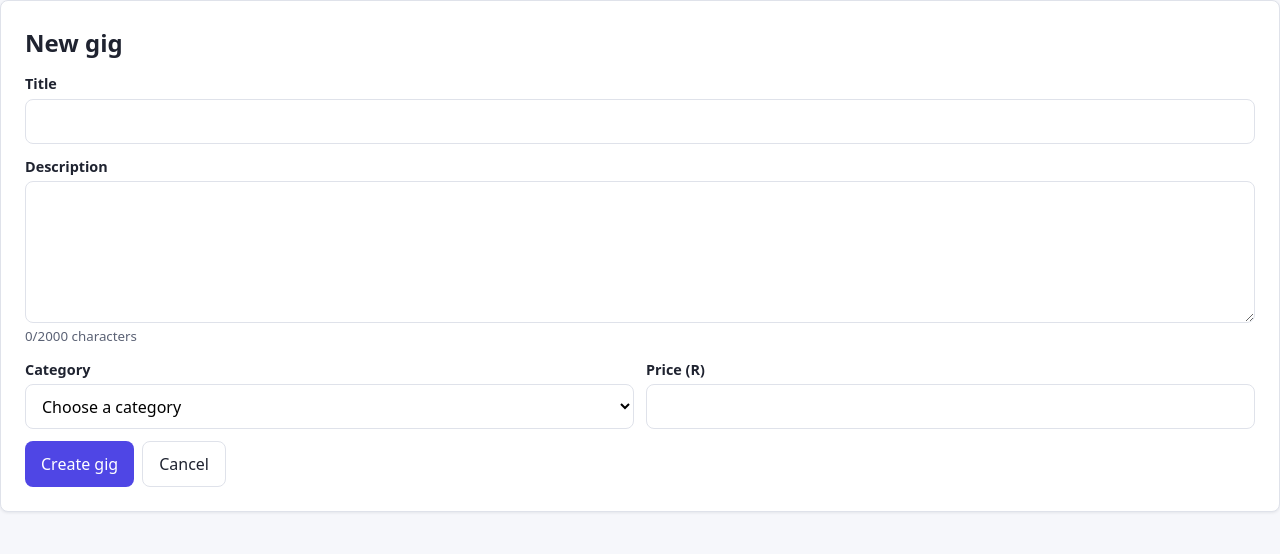
Test: GigForm component › rejects a price below R1
Type "Logo Design" into the field labelled "Title" at (640, 121), box [25, 99, 1255, 144]
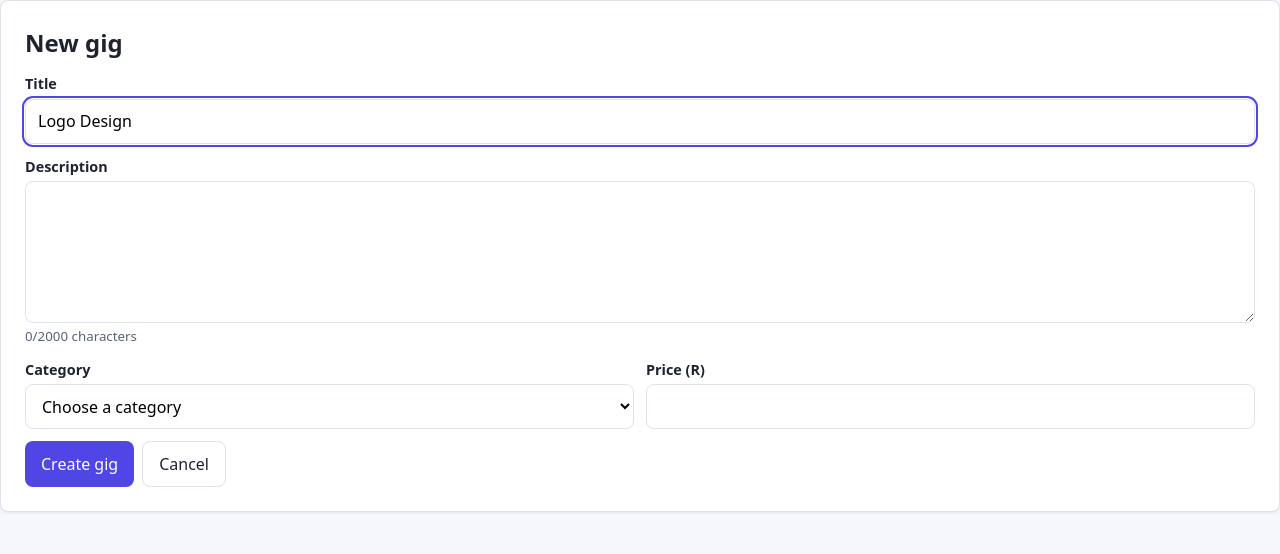
Type "I will design a professional logo" into the text box labelled "Description" at (640, 252), box [25, 181, 1255, 323]
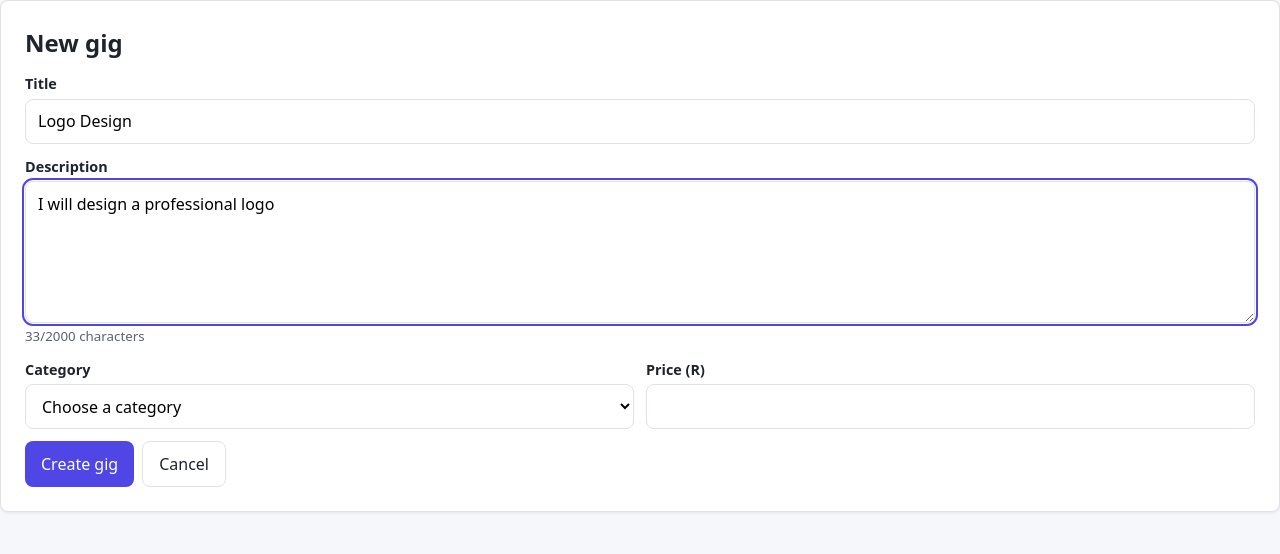
Select "Design" in the dropdown labelled "Category" at (330, 407), box [25, 384, 634, 429]
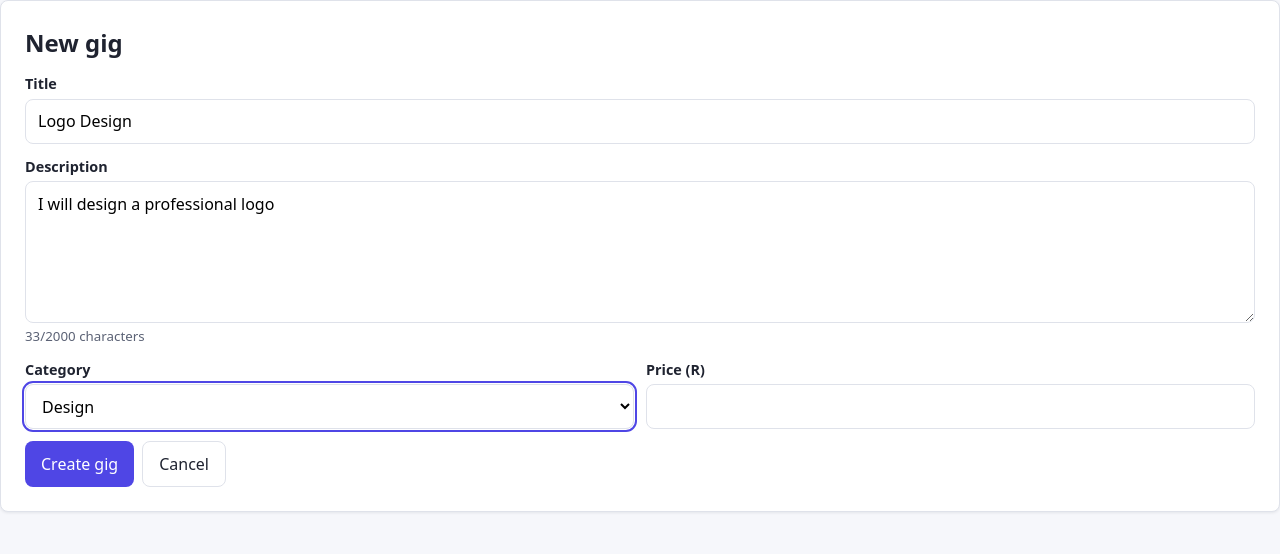
Type "0.5" into the number field labelled "Price (R)" at (950, 407), box [646, 384, 1255, 429]
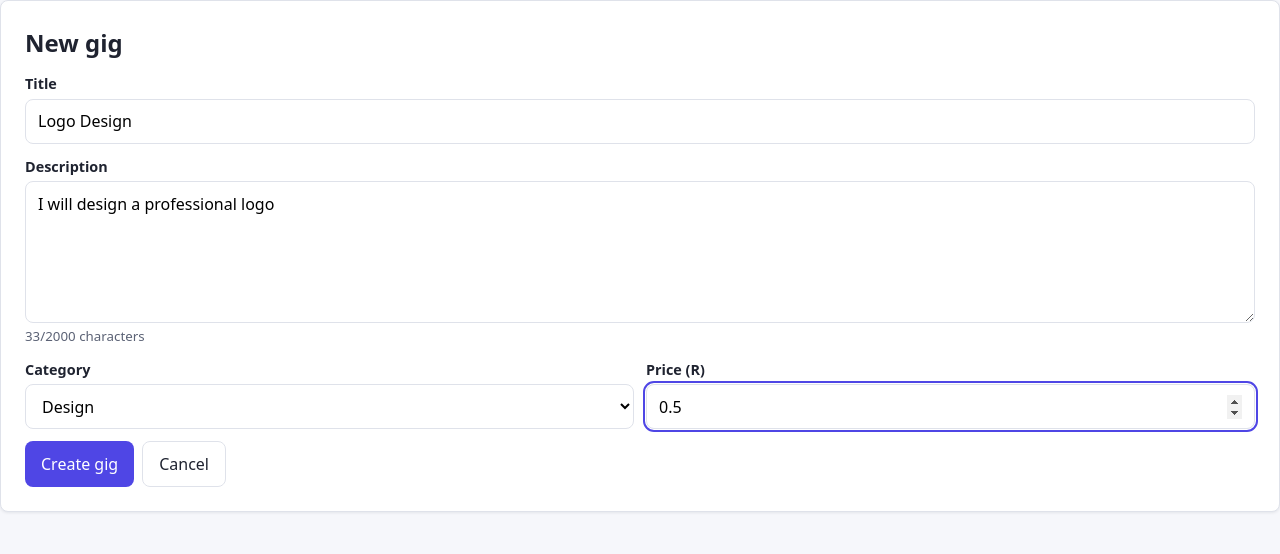
Click the button "Create gig" at (80, 464), box [25, 441, 134, 487]
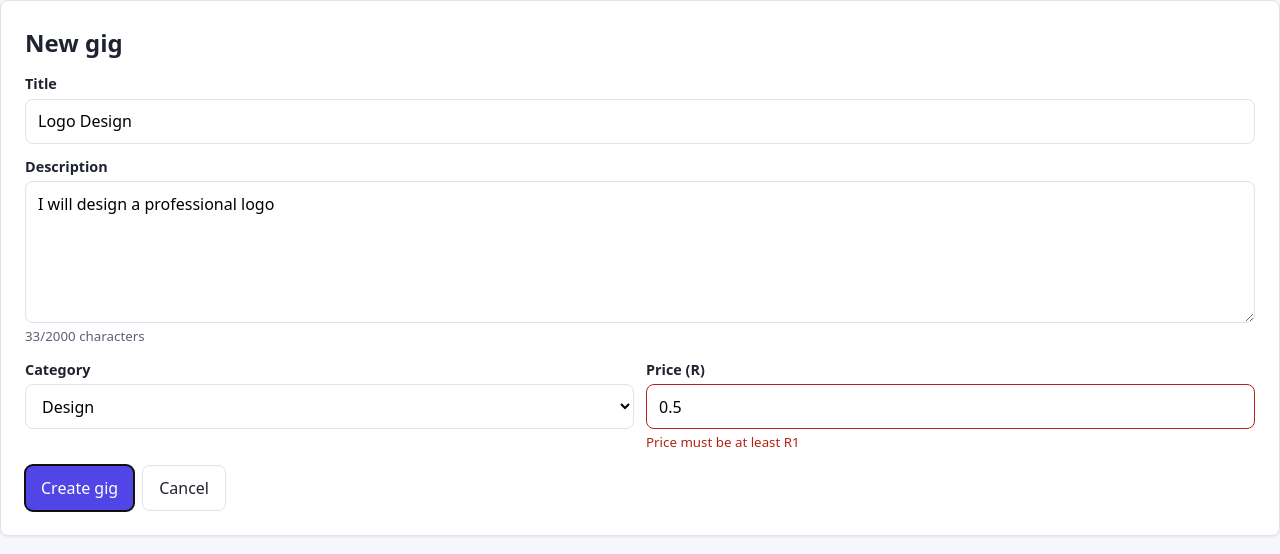
Now the text "Price must be at least R1" is shown, box [646, 433, 800, 451]
